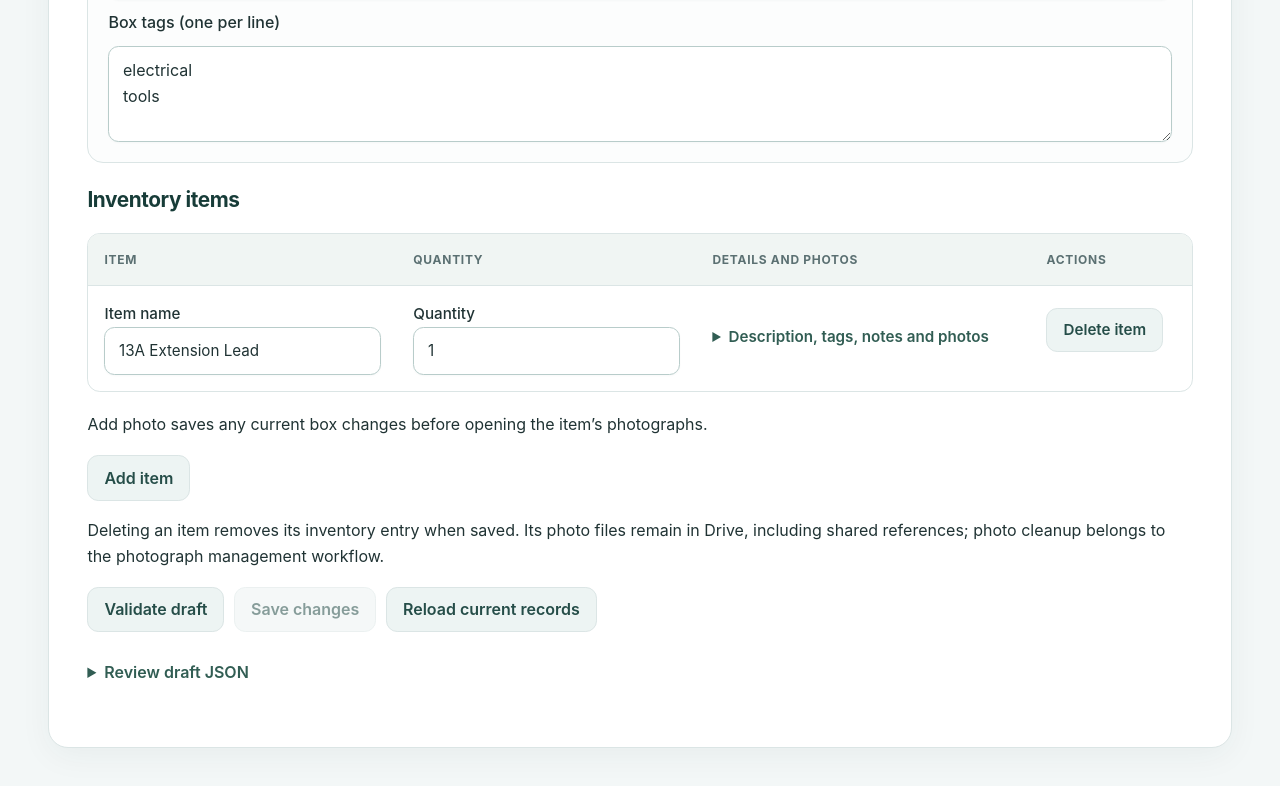
Scenario: create/edit screens › shows item rows with expandable details and a photo action
(page scrolled)
Expected: the field labelled "Item name" is shown, [104,327,381,375]
Click the heading "Description, tags, notes and photos" at [859, 336], box [728,327,989,346]
(page scrolled)
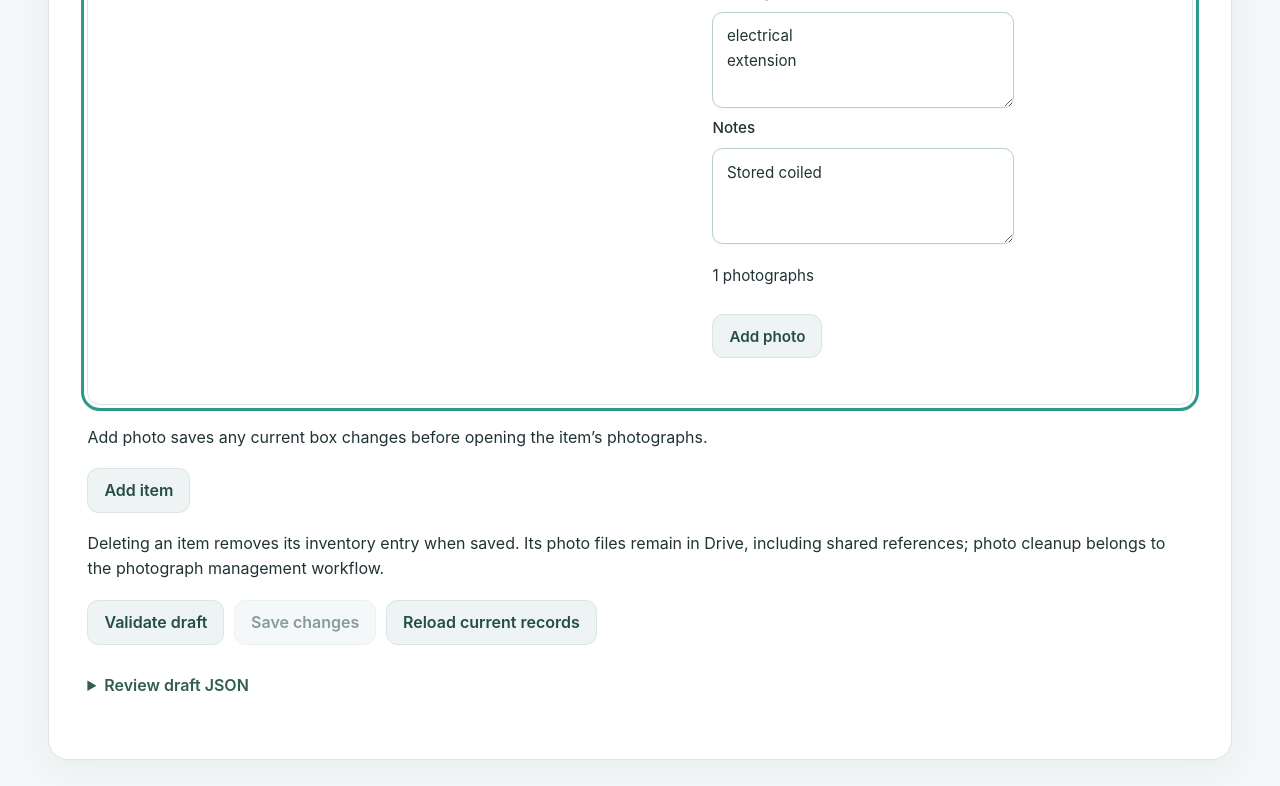
Result: the text box labelled "Item tags (one per line)" is shown at [712,12,1014,108]
Result: the text box labelled "Notes" is shown at [712,148,1014,244]
Result: the button "Add photo" is enabled at [712,314,822,358]
